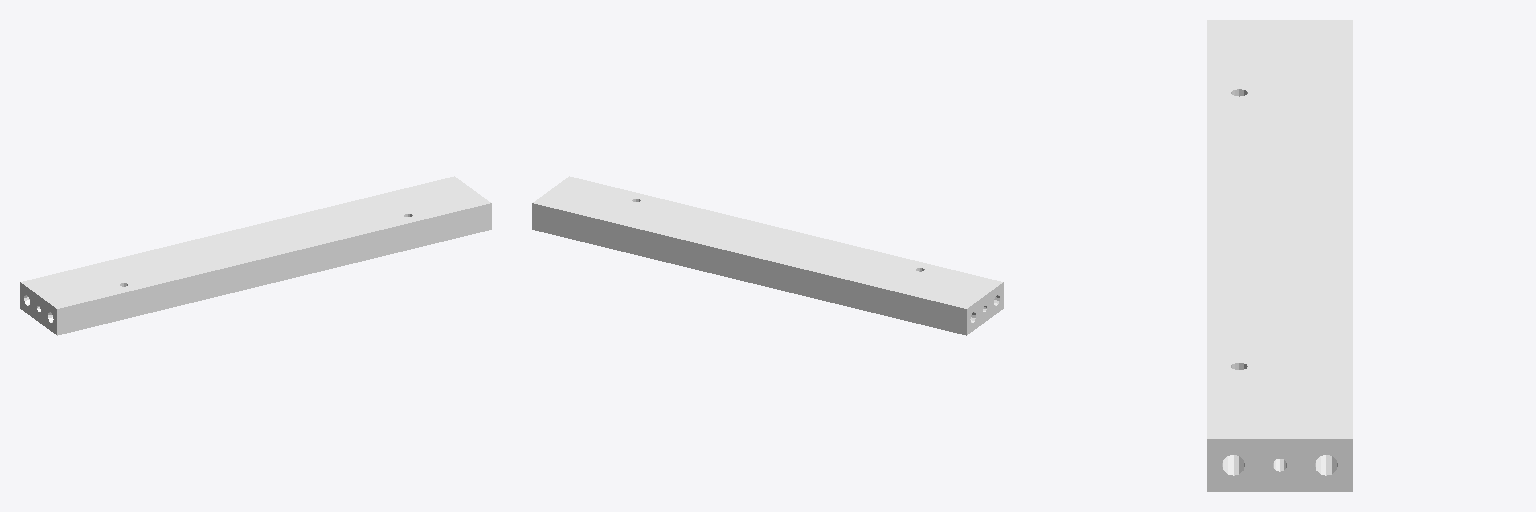
robot.urdf — ikea_stefan_long:
<?xml version="1.0" ?>
<robot name="ikea_stefan_long">
  <link name="object_link">
    <inertial>
      <origin rpy="0 0 0" xyz="0 0 0"/>
       <mass value=".2"/>
       <inertia ixx="0" ixy="0" ixz="0" iyy="0" iyz="0" izz="0"/>
    </inertial>
    <visual>
      <origin rpy="0 0 0" xyz="0 0 0"/>
      <geometry>
				<mesh filename="ikea_stefan_long.stl" scale="1 1 1"/>
      </geometry>
       <material name="white">
        <color rgba="1 1 1 1"/>
      </material>
    </visual>
    <collision>
      <origin rpy="0 0 0" xyz="0 0 0"/>
      <geometry>
      <mesh filename="ikea_stefan_long.stl" scale="1 1 1"/>
      </geometry>
    </collision>
  </link>
</robot>

--- Facts derived from the render (not from the file) ---
The picture shows the robot from 3 angles, left to right: view 1: azimuth 30°, elevation 25°; view 2: azimuth 150°, elevation 25°; view 3: azimuth 270°, elevation 25°; orthographic projection.
Model ikea_stefan_long with 1 links and 0 joints (none), rooted at object_link, posed every joint at zero.
Visible links, largest first — view 1: object_link; view 2: object_link; view 3: object_link.
Link boxes in pixels (x1,y1,x2,y2): object_link: (20,176,491,335); object_link: (532,176,1003,335); object_link: (1207,20,1352,491).
Size in the robot's own frame: 0.341 by 0.05 by 0.02 metres.
1 mesh visuals loaded from 1 distinct referenced files (1 binary STL).
